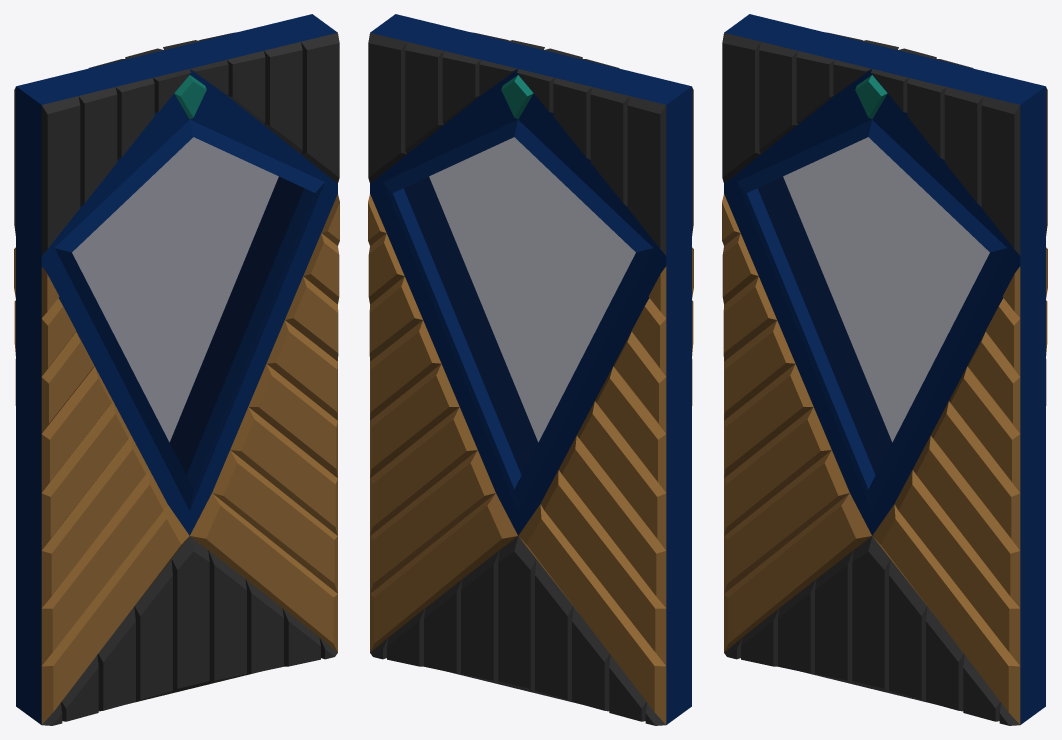
File: AncientEgyptianWindow.glb
The picture shows the model from 3 angles, left to right: view 1: azimuth 30°, elevation 25°; view 2: azimuth 150°, elevation 25°; view 3: azimuth 330°, elevation 25°; orthographic projection.
Visible parts, largest first — view 1: wall_AncientEgyptian_window; view 2: wall_AncientEgyptian_window; view 3: wall_AncientEgyptian_window.
Boxes of the visible parts, x1,y1,x2,y2 form: wall_AncientEgyptian_window: (14, 14, 339, 725); wall_AncientEgyptian_window: (368, 14, 693, 725); wall_AncientEgyptian_window: (722, 14, 1047, 725).
Size of what is drawn, in the model's own units: 2 by 4 by 0.3885.
2 materials, 2 textured.
